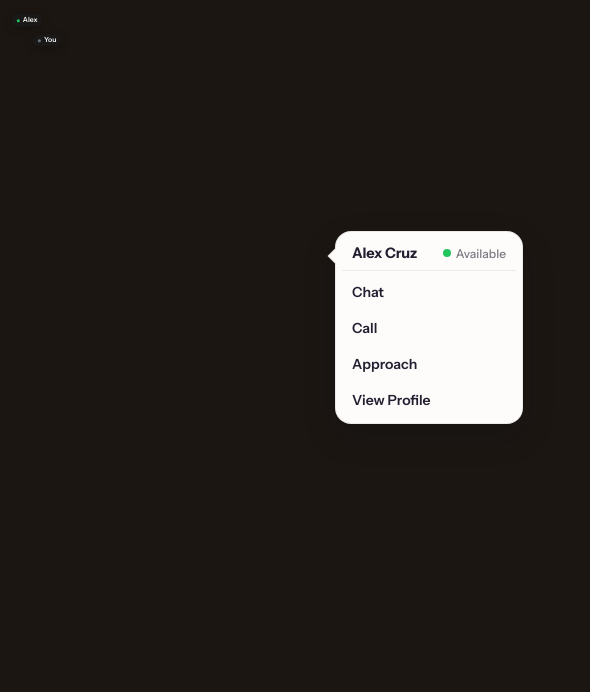
Test: the gates › refuses the three walking verbs for an employee V1 has not confirmed checked in
The width and height of the screenshot is (590, 692).
Expected: the menu with test id "world-menu" is shown, [335, 231, 523, 424]
Click the menu item "Approach". click: (429, 364)
box: [342, 347, 516, 381]
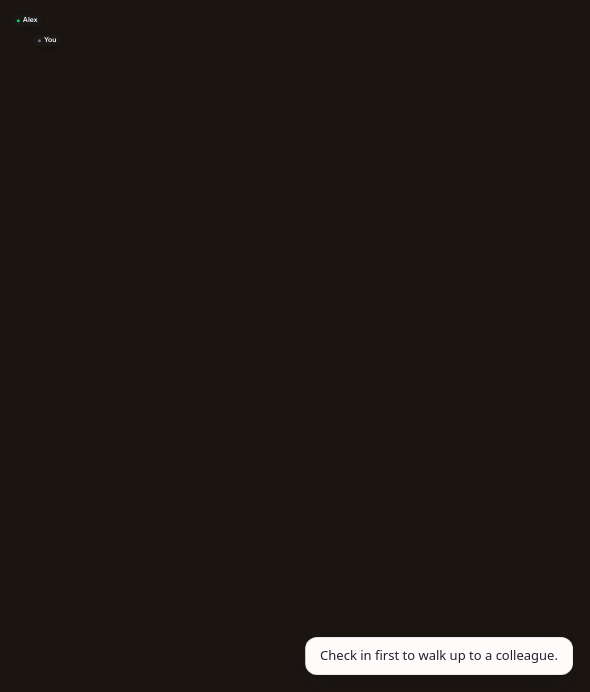
Expected: the text "Check in first to walk up to a colleague." is shown, [305, 638, 573, 675]
